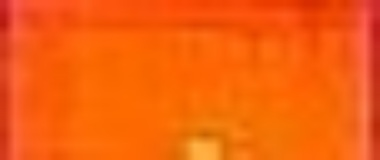Hotspot: (185, 124, 227, 160)
